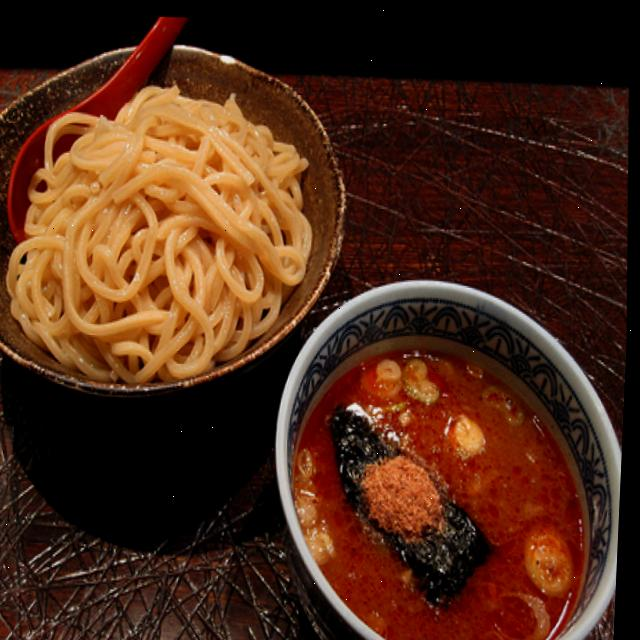面条主食: (0, 46, 618, 640)
